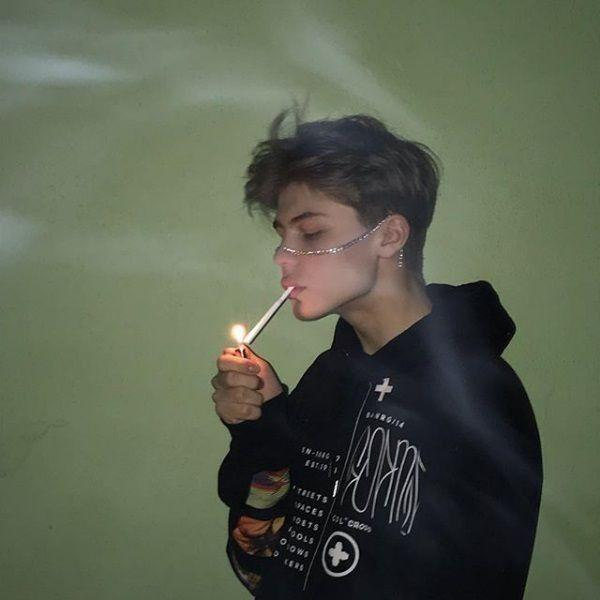cigarette: (242, 286, 295, 345)
